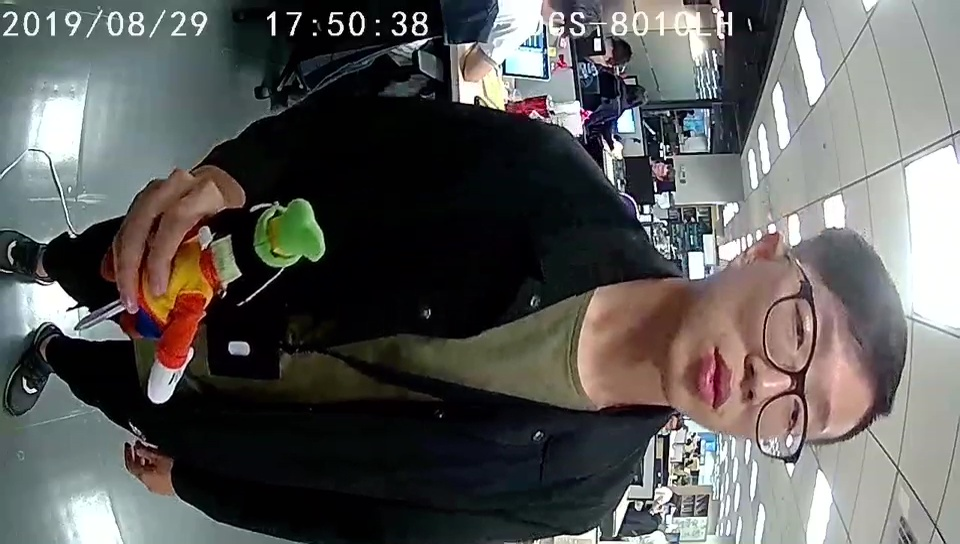goofy: (102, 193, 327, 408)
